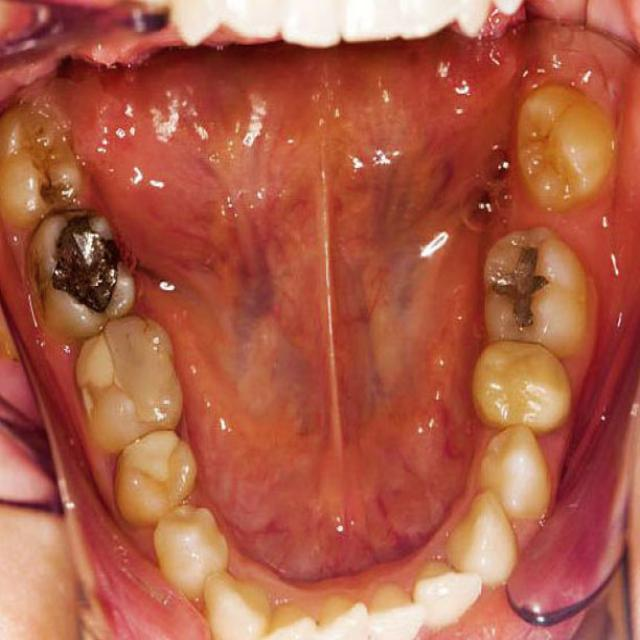caries: (36, 204, 130, 320), (486, 233, 558, 341), (114, 419, 188, 494), (76, 334, 137, 415), (21, 166, 80, 214)
